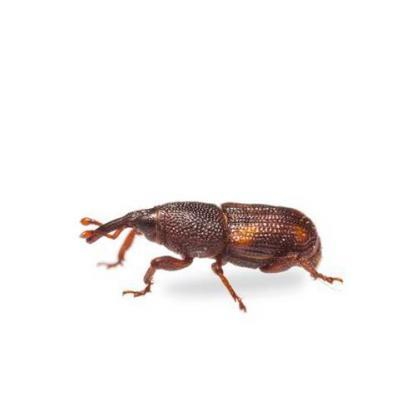rice-bug: (87, 195, 335, 295)
